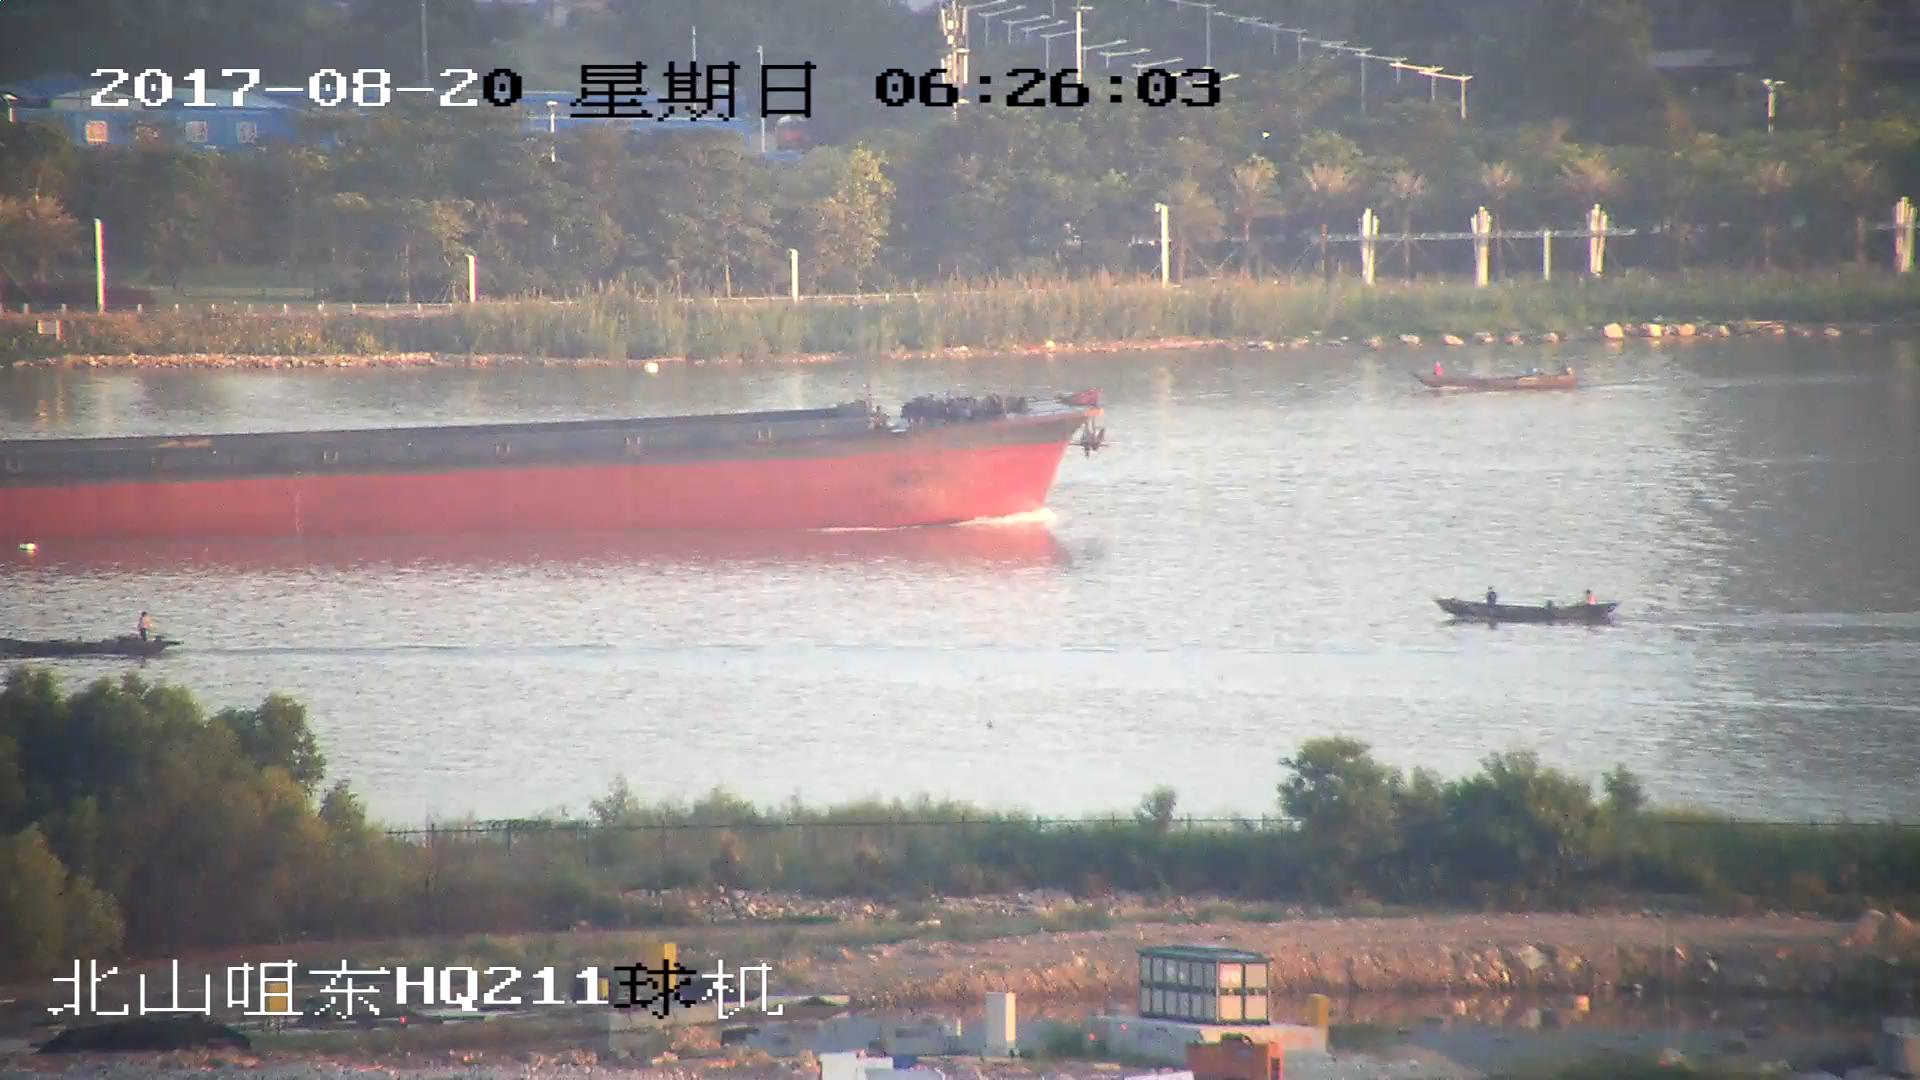bulk cargo carrier: (1, 368, 1111, 542)
fishing boat: (1, 612, 175, 666), (1437, 586, 1623, 626), (1411, 357, 1580, 395)
